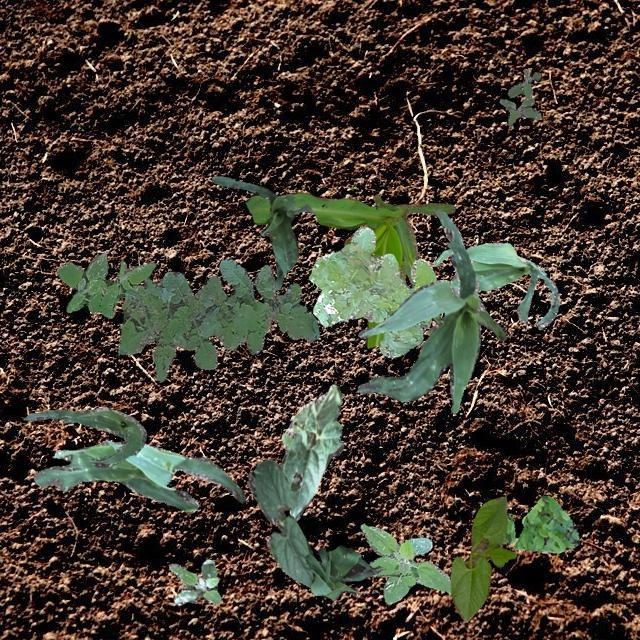crop: (244, 190, 453, 346), (356, 208, 506, 412), (32, 438, 244, 511), (421, 242, 558, 328), (210, 174, 298, 290), (246, 458, 312, 586), (280, 384, 342, 520), (450, 496, 514, 620), (22, 406, 144, 466), (304, 544, 384, 600)
weed: (116, 256, 318, 381), (308, 226, 436, 356), (360, 522, 450, 604), (56, 252, 154, 316), (503, 494, 579, 552), (498, 68, 540, 126), (168, 558, 220, 604), (424, 314, 442, 334)
